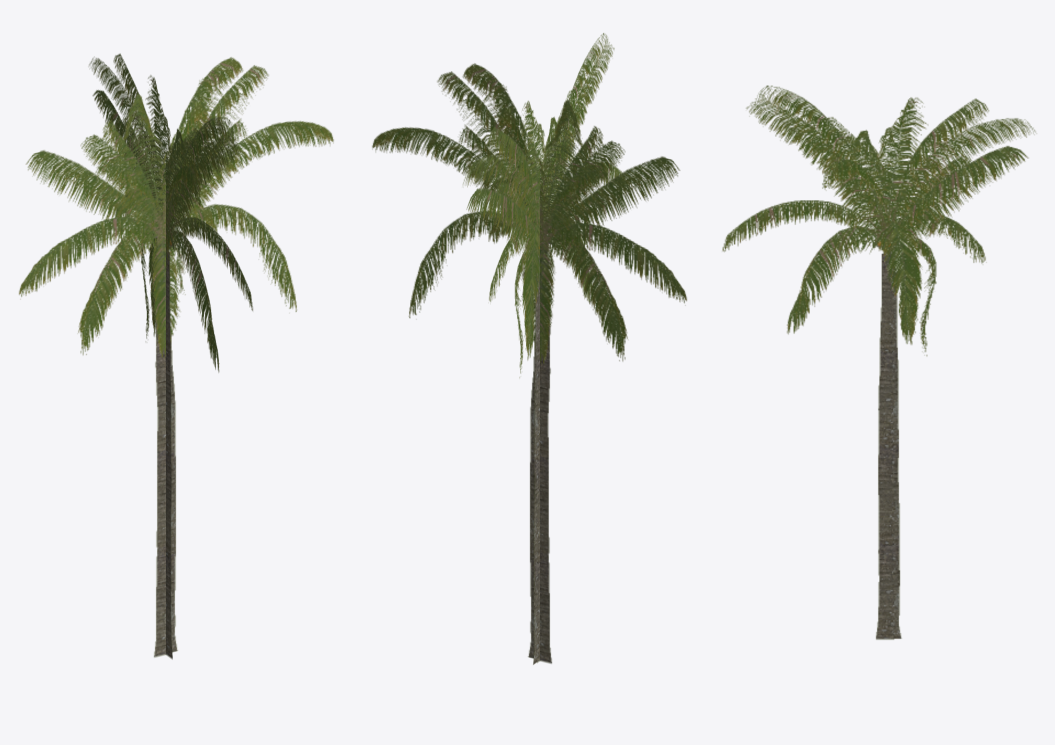
Rendered from CocosNucifera.glb.
The picture shows the model from 3 angles, left to right: view 1: azimuth 30°, elevation 25°; view 2: azimuth 150°, elevation 25°; view 3: azimuth 270°, elevation 25°; orthographic projection. The views are drawn at different scales.
Visible parts, largest first — view 1: mesh__mat_billboard_21; view 2: mesh__mat_billboard_21; view 3: mesh__mat_billboard_21.
Boxes of the visible parts, x1=… form: mesh__mat_billboard_21: x1=19, y1=53, x2=333, y2=659; mesh__mat_billboard_21: x1=372, y1=33, x2=686, y2=664; mesh__mat_billboard_21: x1=722, y1=85, x2=1035, y2=639.
Size of the model in its own units: 12.87 by 22.52 by 11.55.
Materials: 1 (1 with a texture image).
